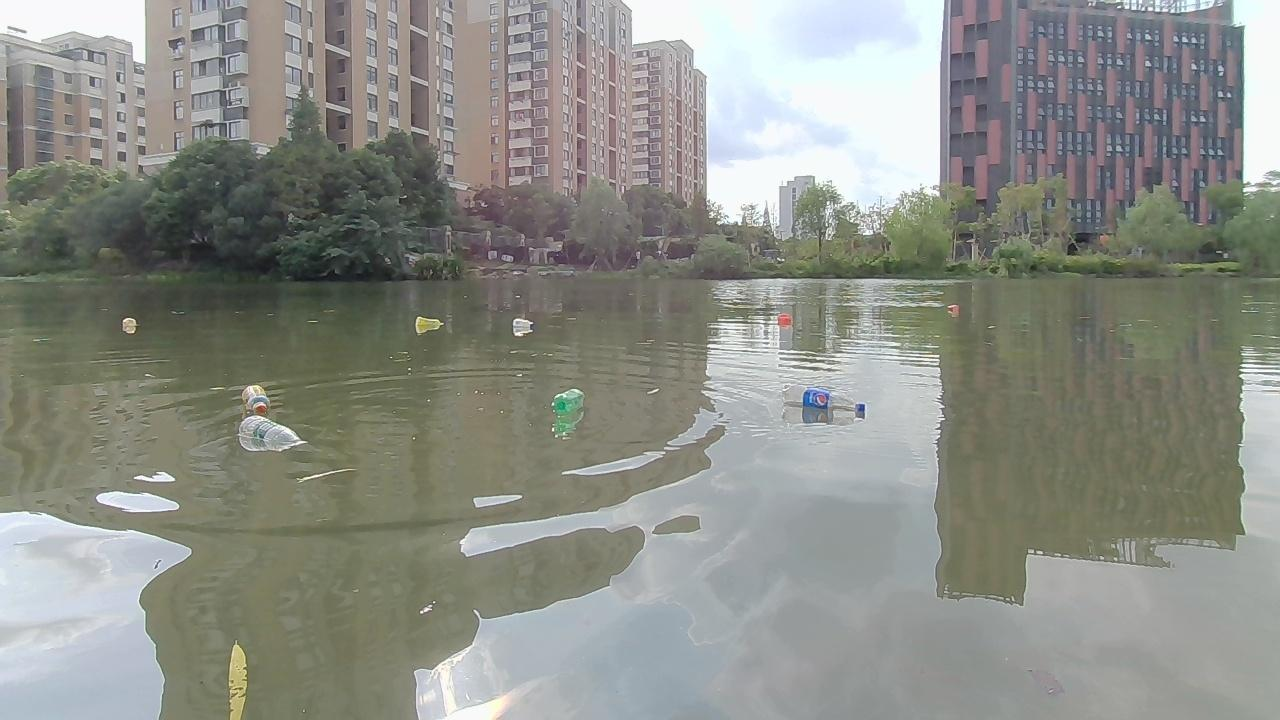bottle: (778, 382, 868, 420), (231, 416, 311, 452), (238, 378, 269, 422), (553, 386, 587, 420), (410, 312, 442, 332), (509, 317, 540, 337), (776, 312, 793, 332), (940, 301, 962, 316), (116, 316, 136, 332)
